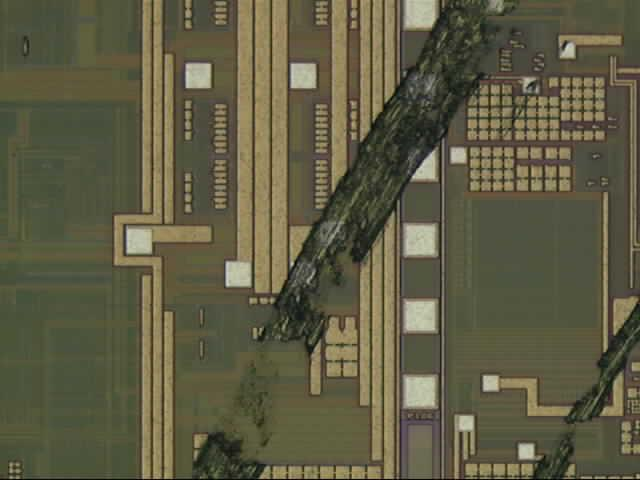SCRATCH: (192, 2, 640, 480)
